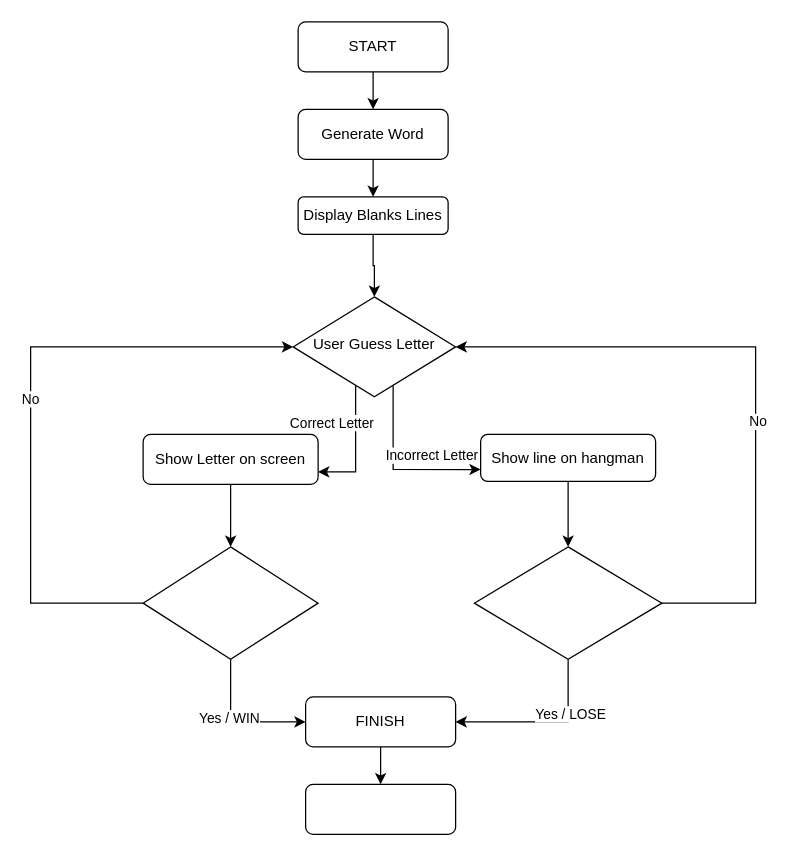
Image size: 788x856. Some labels were removed from this diagram. Each missing label, with the centre of its shape:
"All letters on screen?" goes at (230,602).
"All lines on hangman?" goes at (567,602).
"Show WIN / LOSE message" goes at (380,808).
